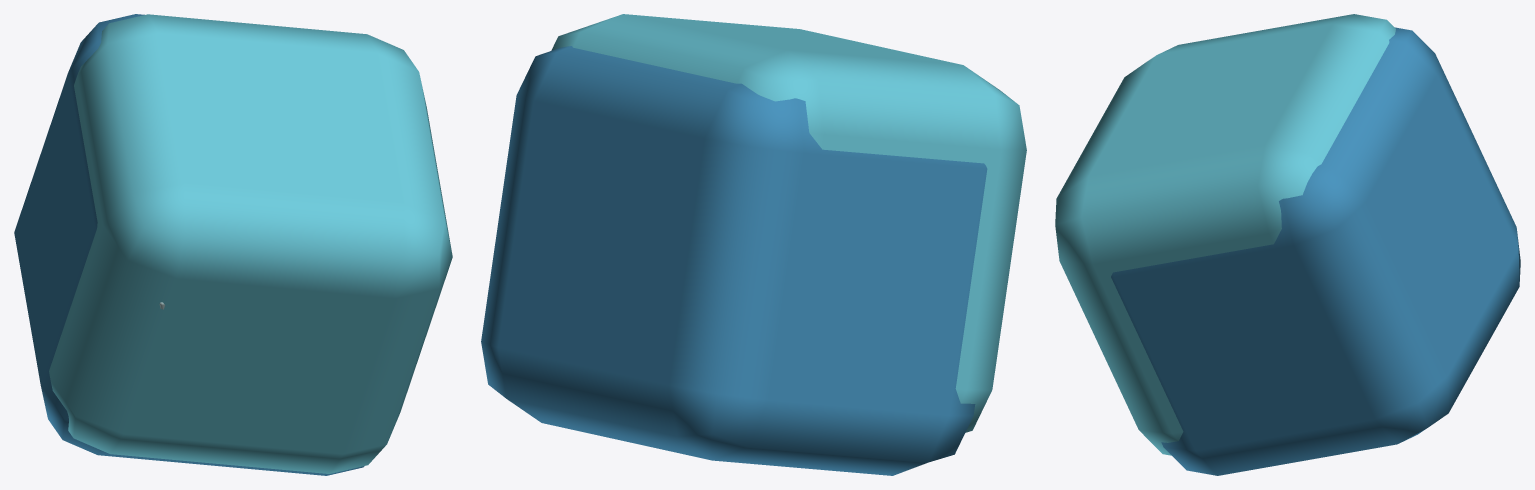
Rendered from ice.glb.
3 views of the same model, side by side, from view 1: azimuth 30°, elevation 25°; view 2: azimuth 150°, elevation 25°; view 3: azimuth 270°, elevation 25° (orthographic). The views are drawn at different scales.
Parts seen in each view (by area): view 1: ice; view 2: ice; view 3: ice.
Boxes of the visible parts, x1,y1,x2,y2 form: ice: [14, 14, 452, 475]; ice: [481, 14, 1026, 475]; ice: [1055, 14, 1520, 475].
Size of the model in its own units: 0.9989 by 1.04 by 1.12.
